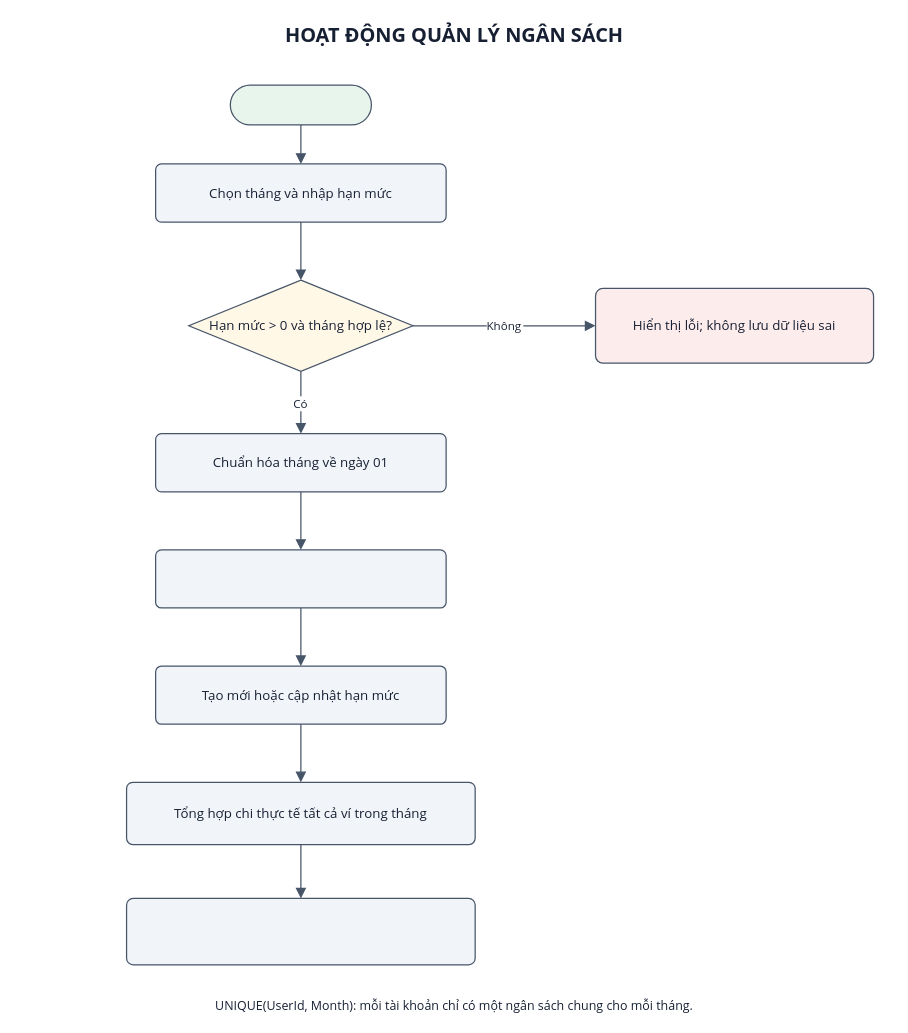
Some shapes in this 908 by 1033 pixel diagram are drawn without their labels. The shapes that lost their labels are listed below. From the top down, each one's box as (x1, y1, x2, y2) in pixels, then its label:
(229, 84, 372, 125): Bắt đầu
(155, 549, 446, 608): Tìm ngân sách theo UserId và tháng
(126, 897, 475, 965): Ngân sách còn lại = hạn mức − tổng chi Hiển thị cảnh báo khi vượt
